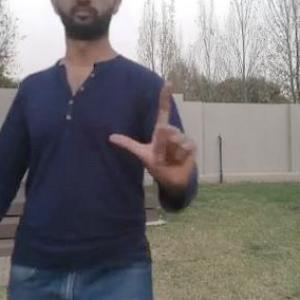land_hand: (104, 74, 204, 196)
